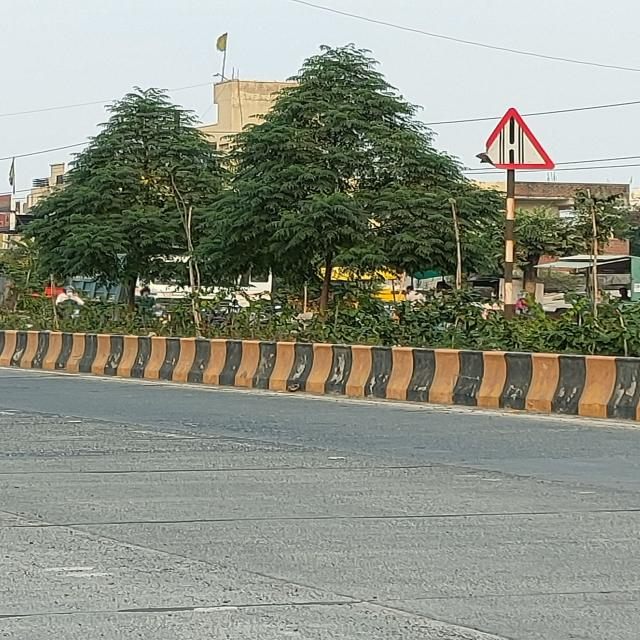GAP_IN_MEDIAN: (477, 106, 556, 168)
